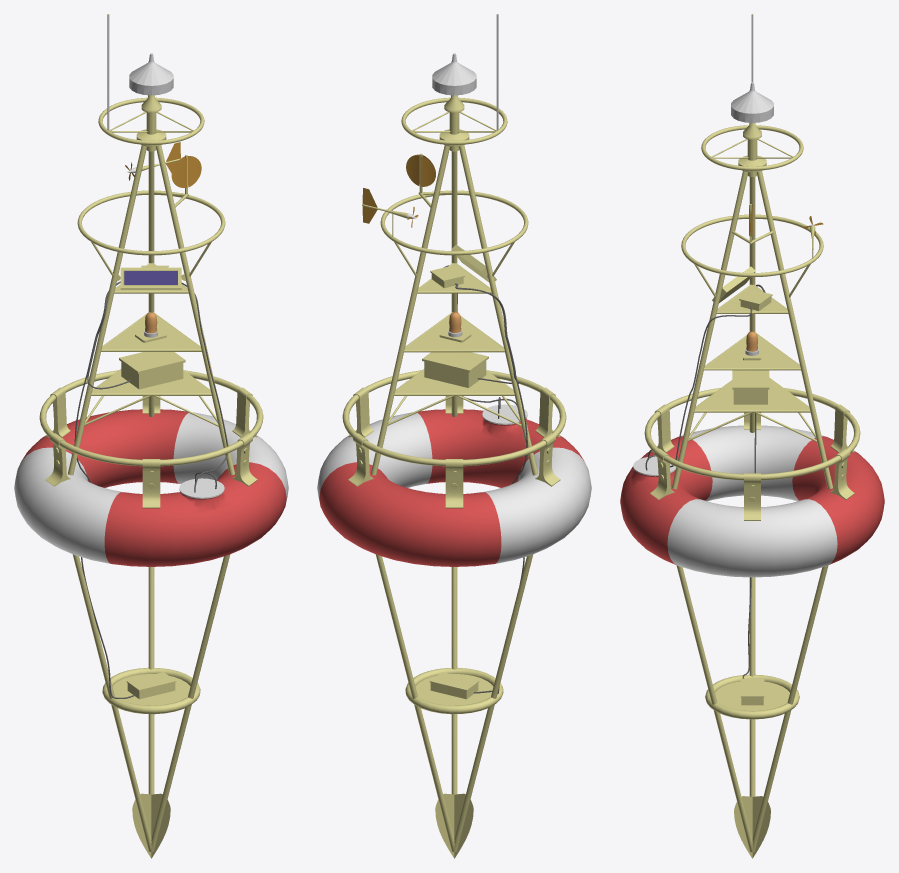
Rendered from HarborBuoy.FBX.
3 views of the same model, side by side, from view 1: azimuth 30°, elevation 25°; view 2: azimuth 150°, elevation 25°; view 3: azimuth 270°, elevation 25° (orthographic). The views are drawn at different scales.
Parts seen in each view (by area): view 1: Floater, Body, GPS, Electronic, Solar Panel, Cables, Terminal, Dipping Sensor, Radar Reflector; view 2: Floater, Body, GPS, Electronic, Terminal, Dipping Sensor, Cables, Radar Reflector, Meteorological sensor, transformer; view 3: Floater, Body, GPS, Electronic, Terminal, Cables, Dipping Sensor.
Part boxes in pixels (left/top/right/bottom): Floater: left=14, top=409, right=288, bottom=566; Body: left=39, top=97, right=263, bottom=851; GPS: left=129, top=53, right=173, bottom=151; Electronic: left=119, top=352, right=185, bottom=389; Solar Panel: left=120, top=267, right=181, bottom=289; Cables: left=74, top=281, right=228, bottom=698; Terminal: left=132, top=793, right=170, bottom=858; Dipping Sensor: left=126, top=672, right=176, bottom=699; Radar Reflector: left=171, top=155, right=201, bottom=194; Floater: left=317, top=404, right=591, bottom=566; Body: left=342, top=97, right=566, bottom=851; GPS: left=432, top=53, right=476, bottom=151; Electronic: left=422, top=352, right=488, bottom=387; Terminal: left=435, top=793, right=473, bottom=858; Dipping Sensor: left=429, top=672, right=479, bottom=699; Cables: left=443, top=265, right=527, bottom=693; Radar Reflector: left=406, top=153, right=435, bottom=193; Meteorological sensor: left=362, top=188, right=418, bottom=227; transformer: left=430, top=266, right=464, bottom=288; Floater: left=620, top=425, right=884, bottom=577; Body: left=644, top=125, right=860, bottom=852; GPS: left=731, top=82, right=773, bottom=176; Electronic: left=732, top=370, right=769, bottom=404; Terminal: left=734, top=796, right=770, bottom=858; Cables: left=645, top=284, right=765, bottom=678; Dipping Sensor: left=740, top=678, right=764, bottom=705.
Size of the model in its own units: 481 by 1654 by 481.
